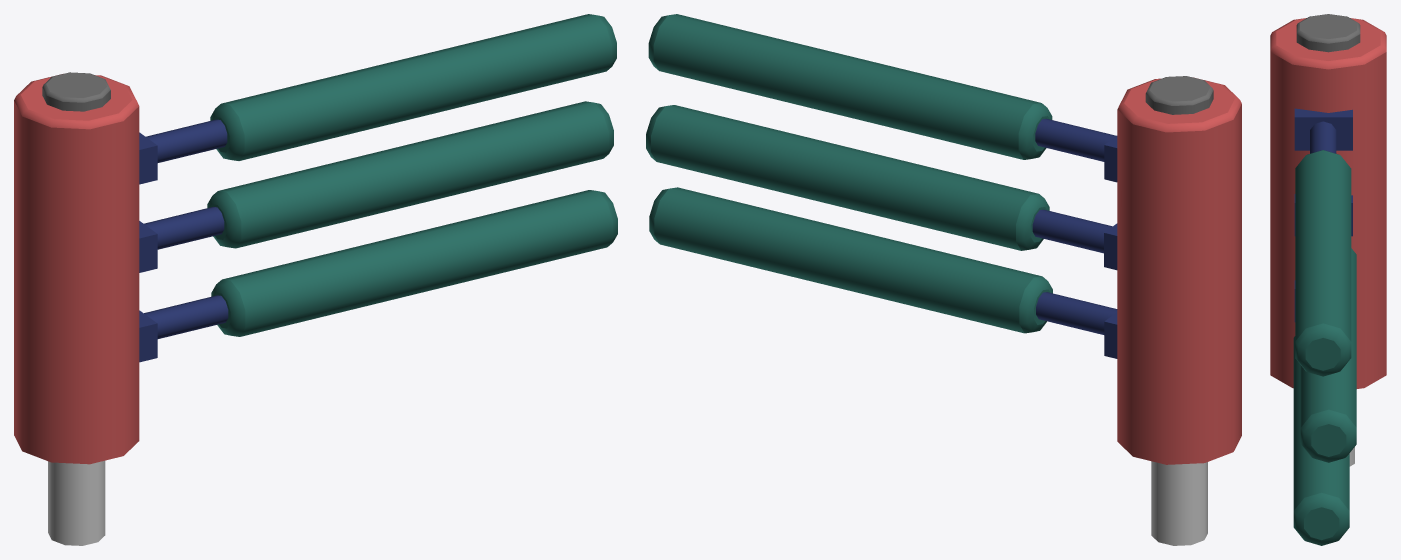
File: Mechanism 3.fbx
The picture shows the model from 3 angles, left to right: view 1: azimuth 30°, elevation 25°; view 2: azimuth 150°, elevation 25°; view 3: azimuth 270°, elevation 25°; orthographic projection. The views are drawn at different scales.
Visible parts, largest first — view 1: Stick, Basis, Mechanism_4; view 2: Stick, Basis, Mechanism_4; view 3: Stick, Mechanism_4.
Part boxes in pixels (x1,y1,x2,y2): Stick: [14, 14, 617, 464]; Basis: [48, 460, 105, 545]; Mechanism_4: [42, 72, 110, 111]; Stick: [646, 14, 1241, 464]; Basis: [1151, 461, 1207, 545]; Mechanism_4: [1145, 76, 1213, 114]; Stick: [1270, 18, 1386, 545]; Mechanism_4: [1296, 14, 1360, 52].
Size of the model in its own units: 881 by 649 by 158.
